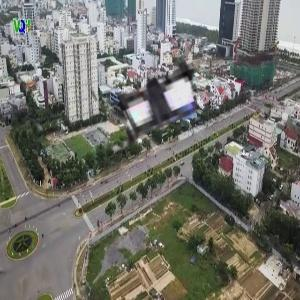drone: (86, 24, 231, 169)
